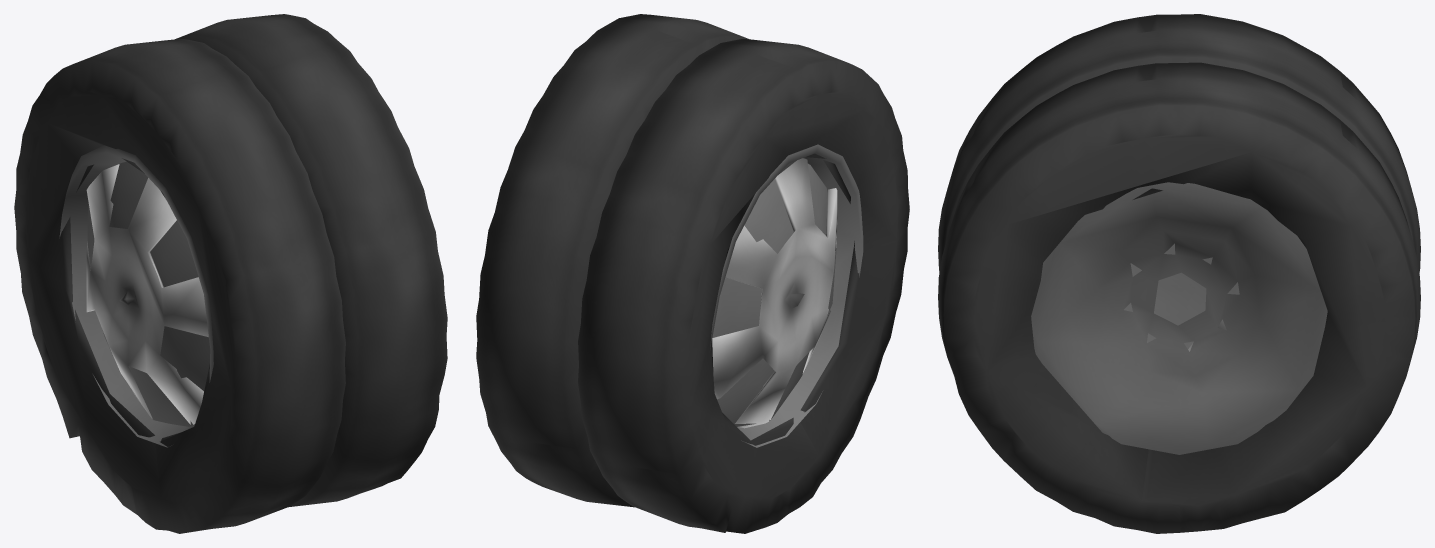
File: OT_wheel_rear_d1.obj
3 renders of one model, left to right at view 1: azimuth 30°, elevation 25°; view 2: azimuth 150°, elevation 25°; view 3: azimuth 270°, elevation 25°, orthographic. The views are drawn at different scales.
Visible parts, largest first — view 1: OT_wheel_rear; view 2: OT_wheel_rear; view 3: OT_wheel_rear.
Boxes of the visible parts, bbox=[...] form: OT_wheel_rear: bbox=[14, 14, 447, 533]; OT_wheel_rear: bbox=[476, 14, 909, 533]; OT_wheel_rear: bbox=[938, 14, 1420, 533].
Size of the model in its own units: 0.485 by 0.987 by 0.9871.
Materials: 1 (1 with a texture image).
